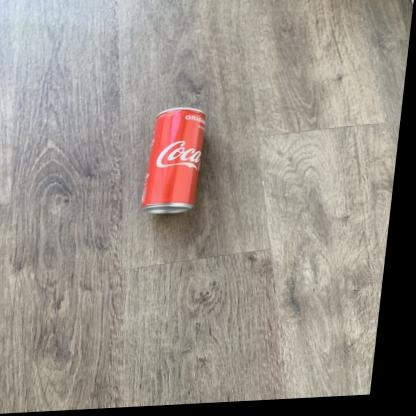trash: (141, 107, 205, 213)
